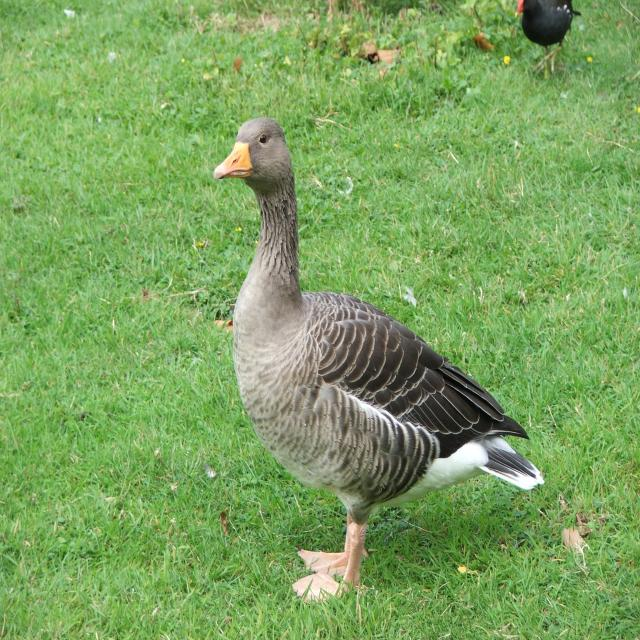Goose: (209, 112, 542, 595)
